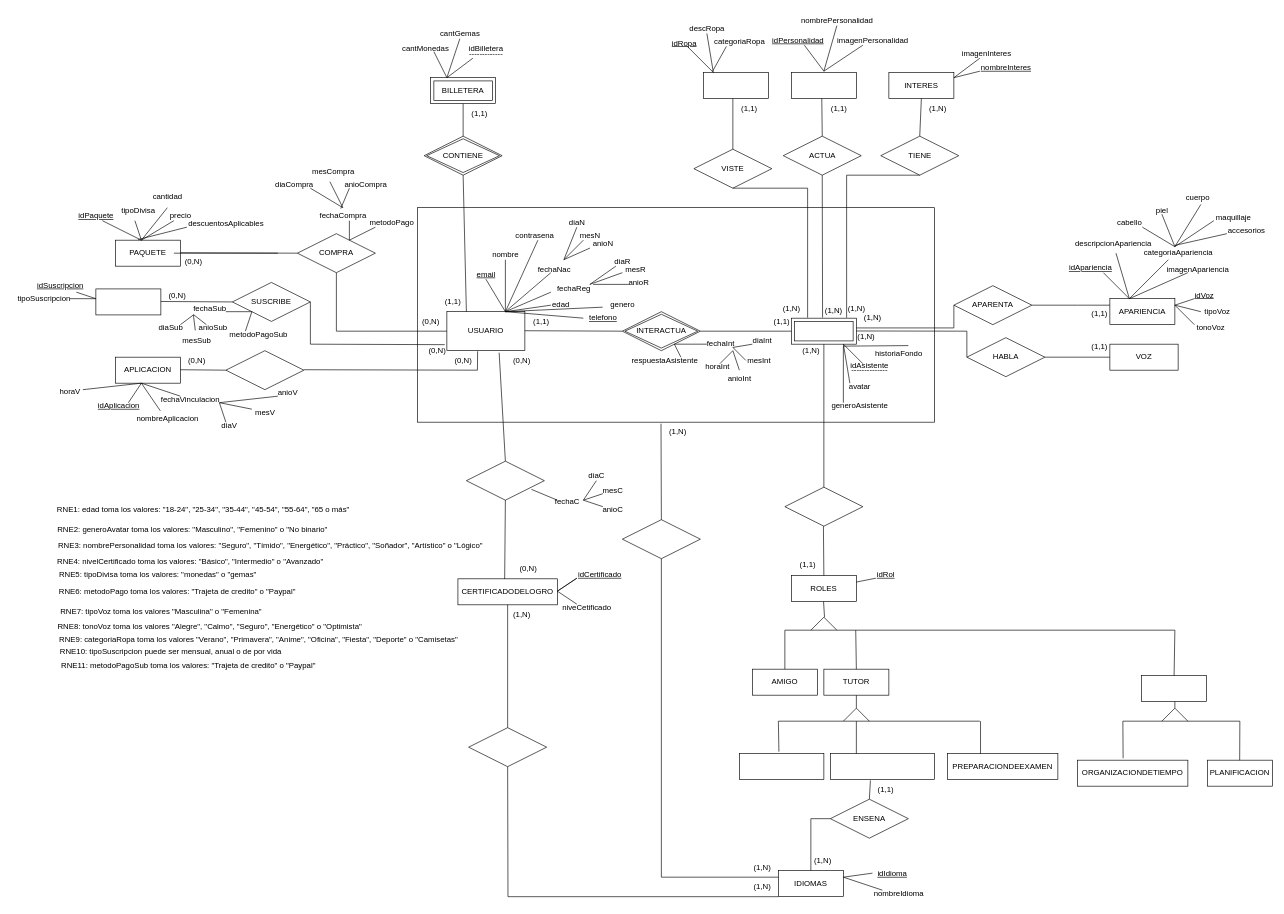
Image size: 1284x914. Some labels were removed from this diagram. The shapes that lost their labels are listed below. From the top down, each one's centre as x and y in pixels, then its label:
[736,85]: ROPA
[823,85]: PERSONALIDAD
[128,301]: SUSCRIPCION
[823,331]: ASISTENTE
[264,370]: VINCULA
[505,480]: RECIBE
[823,506]: CUMPLE
[661,539]: HABLO
[1174,688]: COACH
[507,747]: HABLANDO
[781,766]: APOYOEDUCATIVO
[882,766]: ENSENANZASDEIDIOMAS
